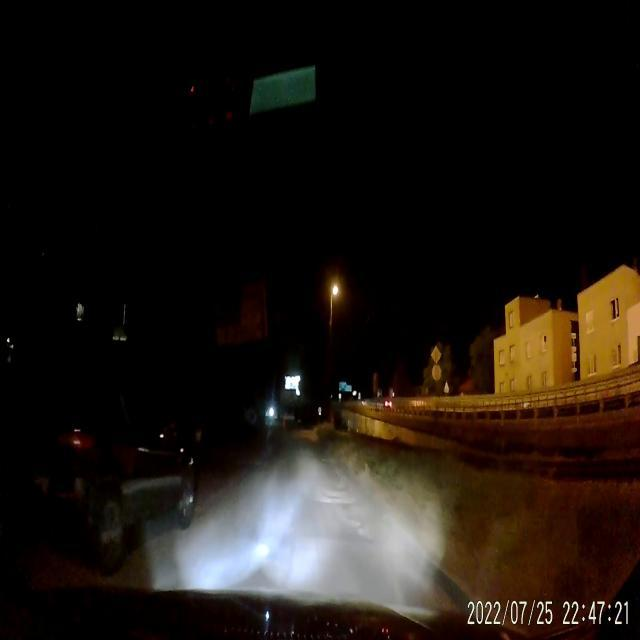Pothole: (318, 472, 353, 518)
